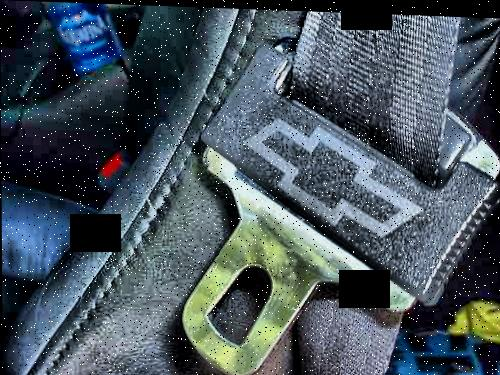seatbelt: (227, 9, 458, 363)
